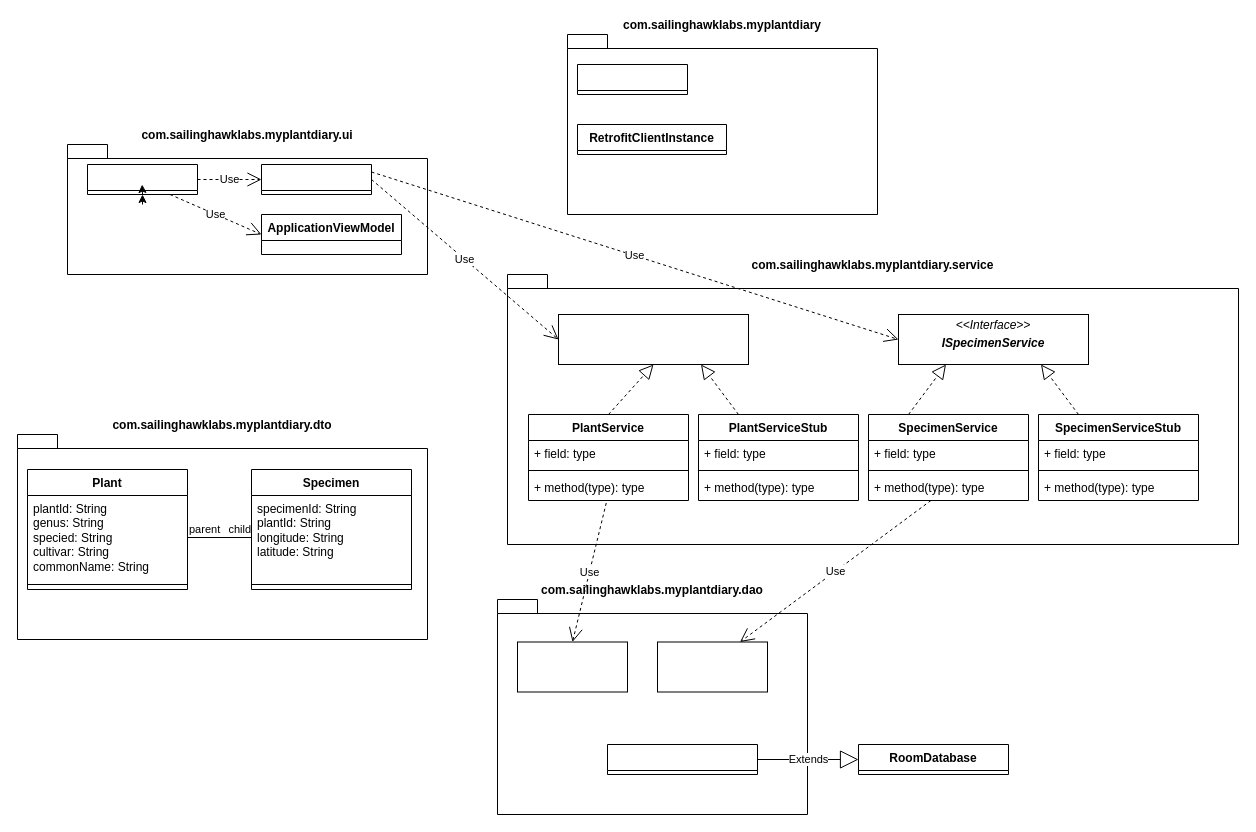
Image size: 1256x832. Some labels were removed from this diagram. Here are the shapes that lost their labels. From the top down, the centre of each, then its label:
At (x=632, y=79): "AppModule".
At (x=142, y=179): "MainActivity".
At (x=316, y=179): "ViewModel".
At (x=653, y=339): "<<Interface>> IPlantService".
At (x=572, y=666): "«interface» IPlantDAO".
At (x=712, y=666): "«interface» ISpecimenDAO".
At (x=682, y=759): "SpecimentDatabase".
